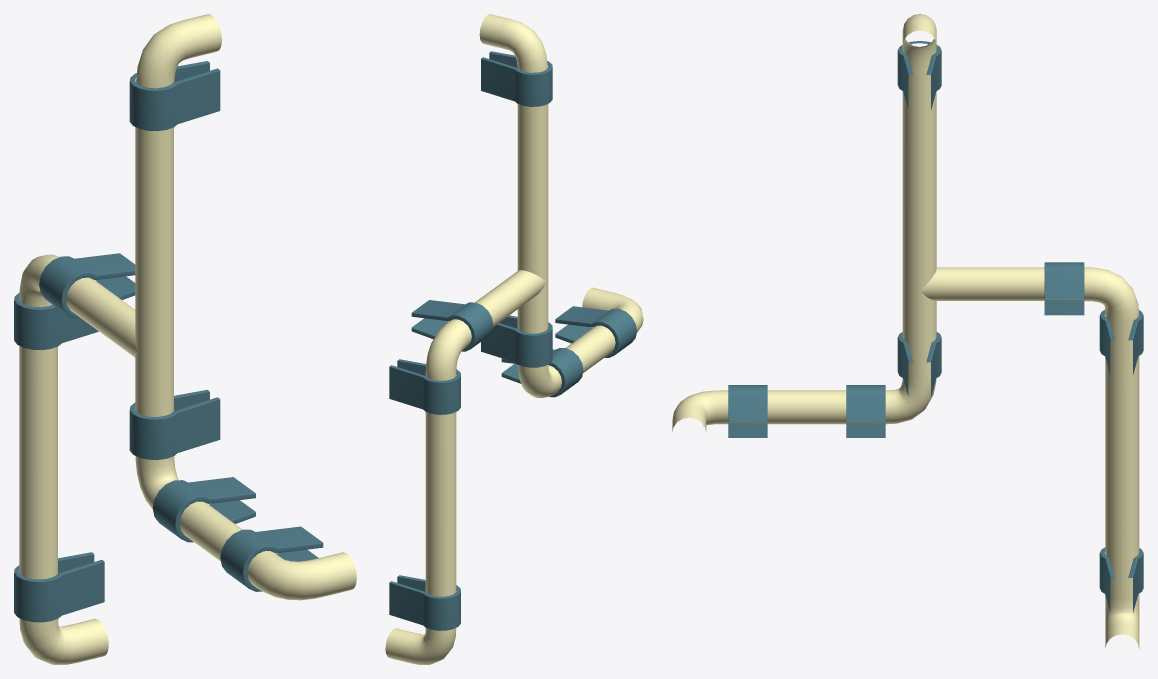
The model's file is City_3_Pipe_3.glb.
3 renders of one model, left to right at view 1: azimuth 30°, elevation 25°; view 2: azimuth 150°, elevation 25°; view 3: azimuth 270°, elevation 25°, orthographic. The views are drawn at different scales.
Parts seen in each view (by area): view 1: City_3_Pipe_3; view 2: City_3_Pipe_3; view 3: City_3_Pipe_3.
Boxes of the visible parts, box(x1,y1,x2,y2) form: City_3_Pipe_3: box(14, 14, 356, 664); City_3_Pipe_3: box(385, 14, 643, 664); City_3_Pipe_3: box(672, 14, 1143, 648).
Bounding box in the file's own units: 0.7264 × 6.13 × 4.13.
Materials: 1 (1 with a texture image).
